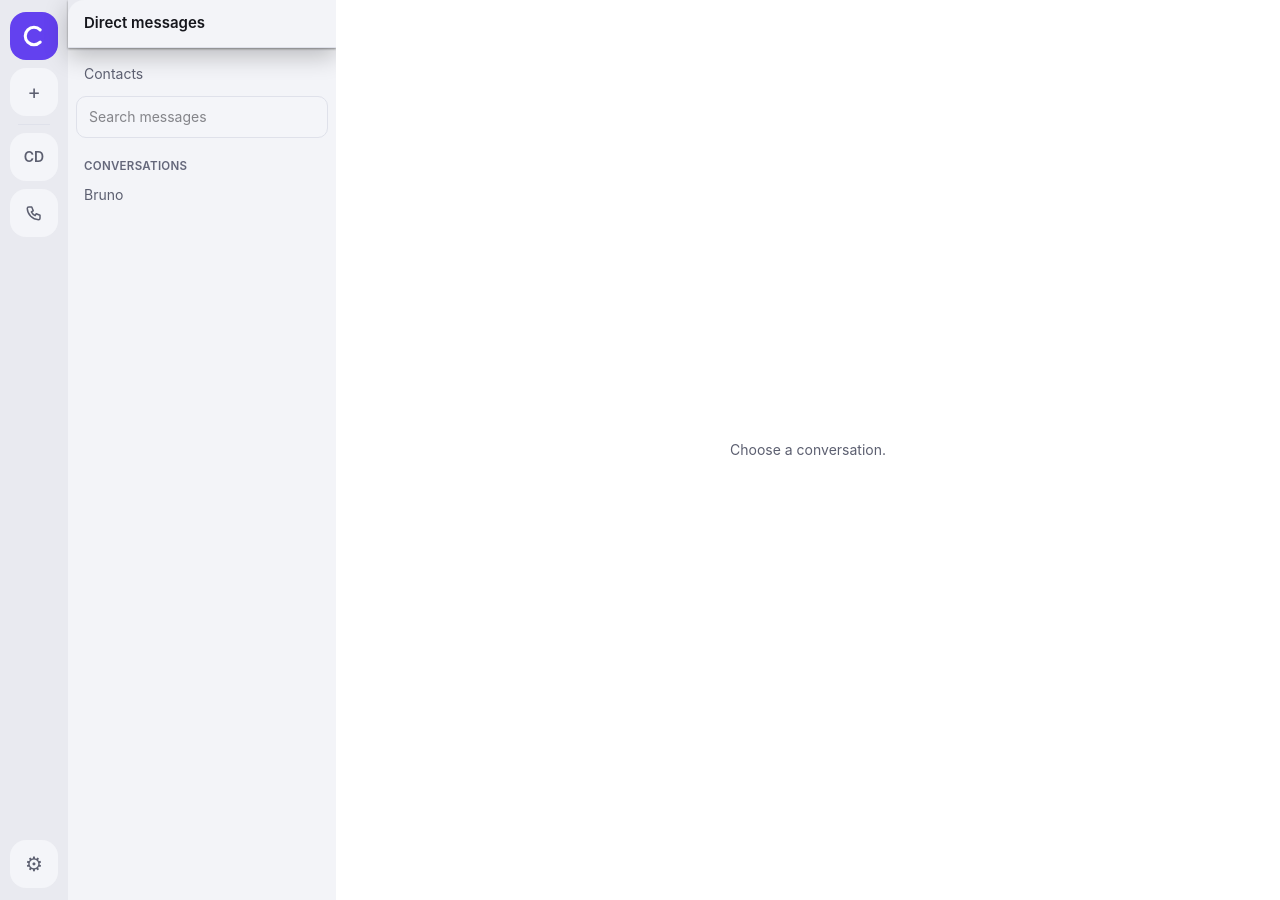
Test: a member is offered no administration
The image size is (1280, 900).
Click the button with aria-label "Casa da Ana".
click(34, 157)  # box [10,133,58,181]
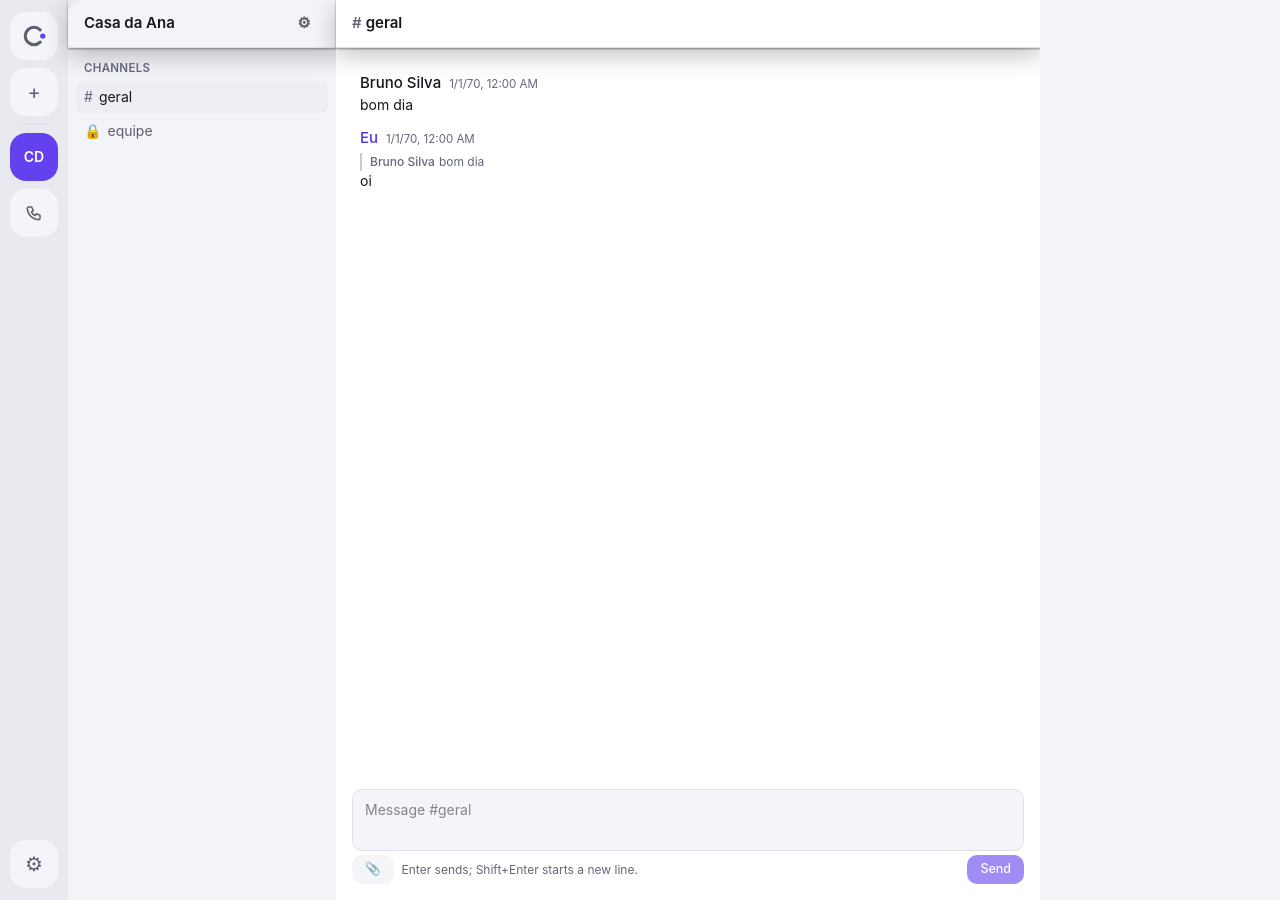
Now the text box with placeholder "Message #geral" is shown, box [352,789,1024,851]
